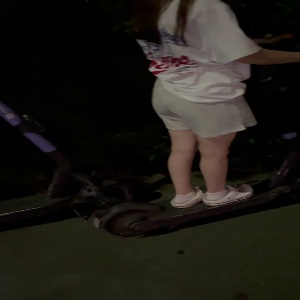human on a scooter: (88, 1, 300, 247)
